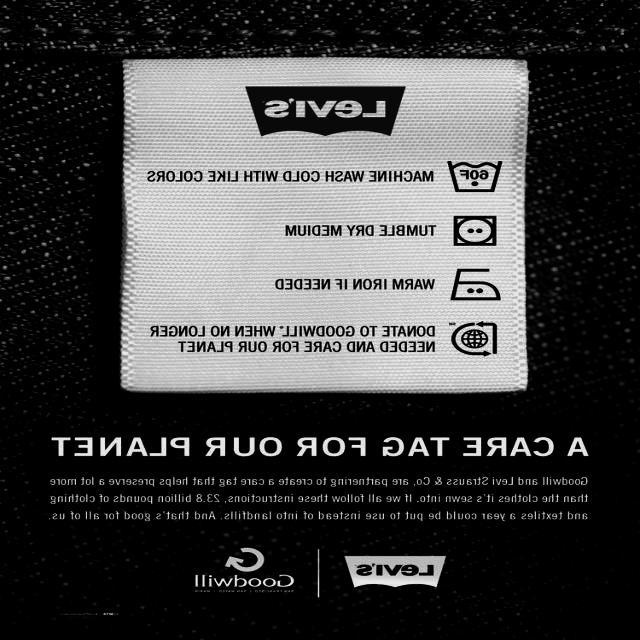30C: (444, 152, 504, 197)
iron_medium: (446, 263, 503, 306)
tumble_dry_medium: (448, 213, 502, 251)
